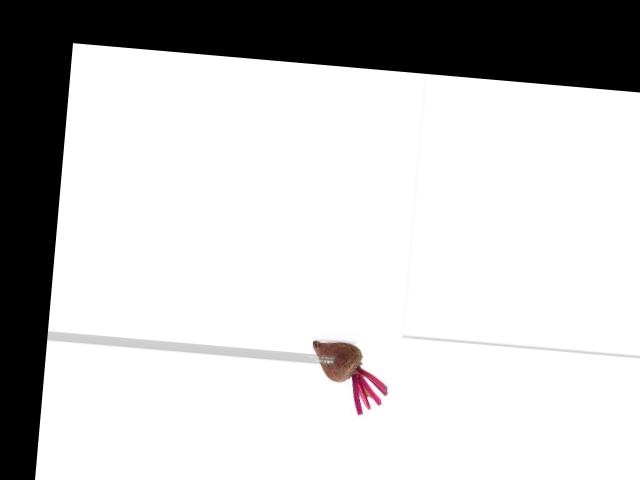beet: (306, 339, 391, 417)
